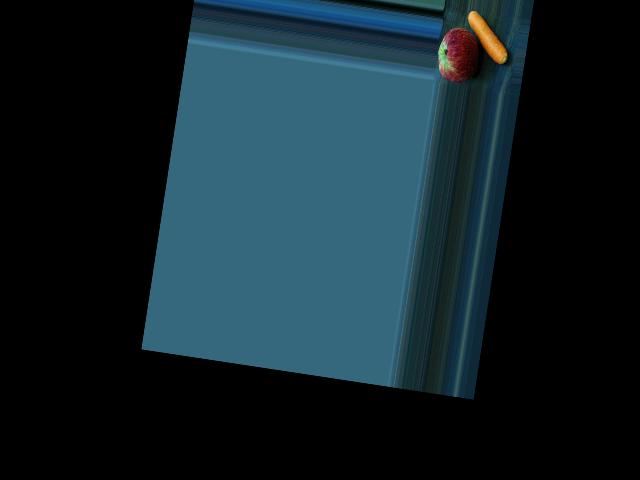carrot: (458, 9, 515, 71)
